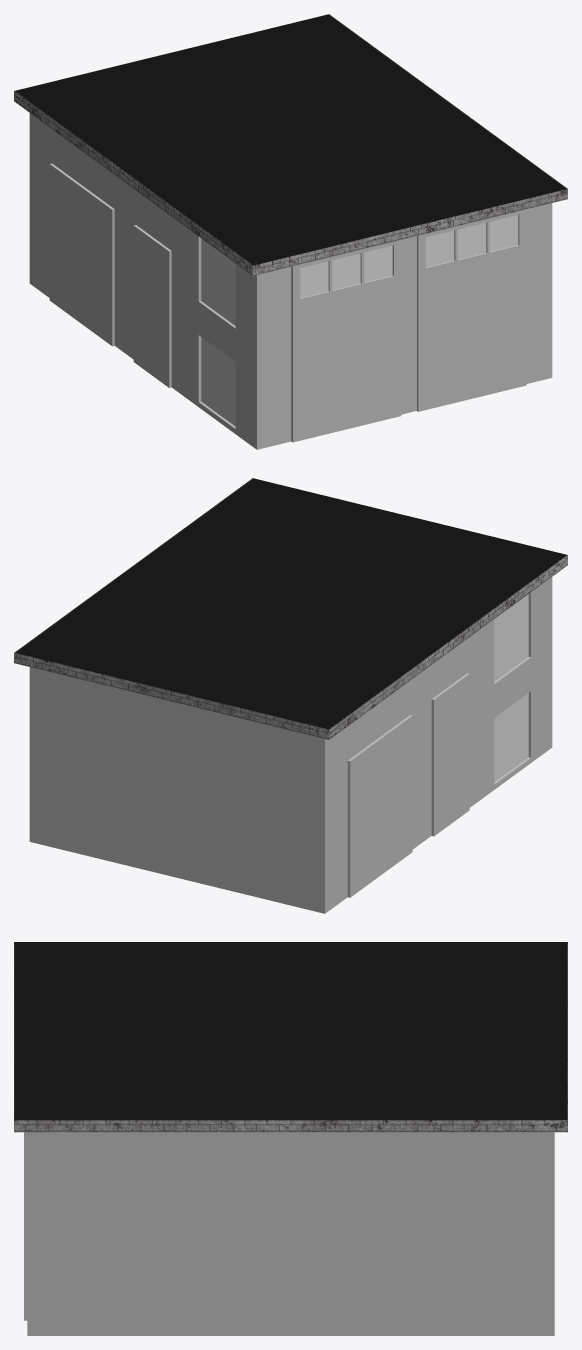
The model's file is zdanie_ETP.fbx.
The picture shows the model from 3 angles, top to bottom: view 1: azimuth 30°, elevation 25°; view 2: azimuth 150°, elevation 25°; view 3: azimuth 270°, elevation 25°; orthographic projection. The views are drawn at different scales.
Visible parts, largest first — view 1: Zdanie_ETP; view 2: Zdanie_ETP; view 3: Zdanie_ETP.
Part boxes in pixels (box(x1,y1,x2,y2)): Zdanie_ETP: box(14, 14, 567, 449); Zdanie_ETP: box(14, 478, 567, 913); Zdanie_ETP: box(14, 942, 567, 1335).
Bounding box in the file's own units: 640 × 370 × 840.
